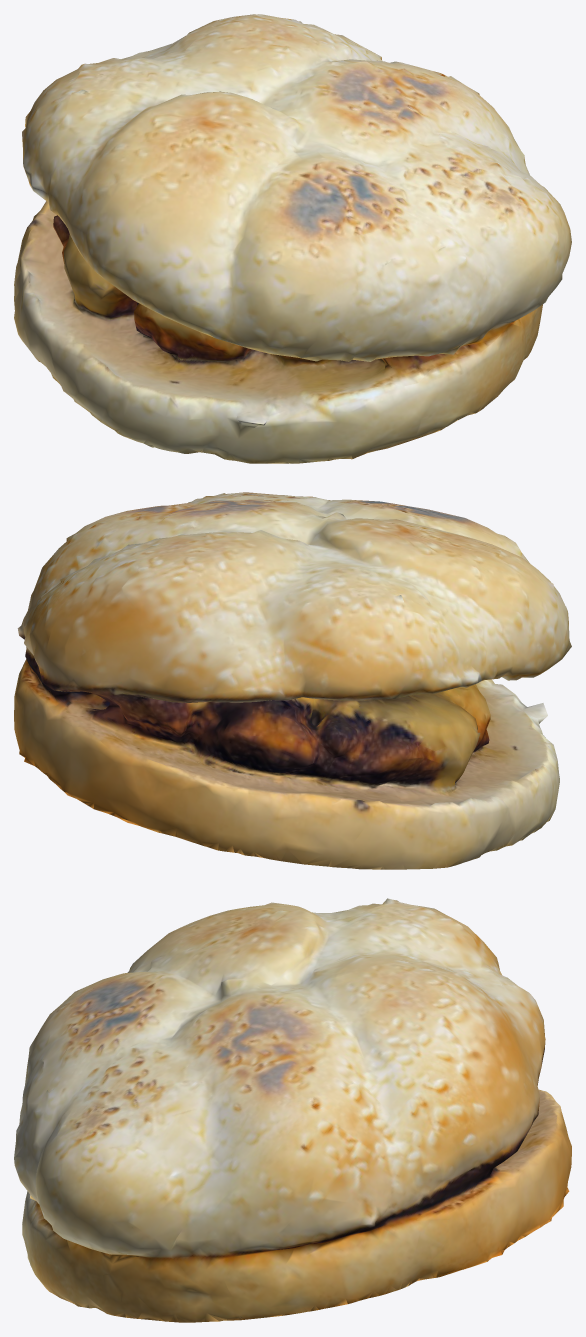
3 renders of one model, top to bottom at view 1: azimuth 30°, elevation 25°; view 2: azimuth 150°, elevation 25°; view 3: azimuth 270°, elevation 25°, orthographic. The views are drawn at different scales.
Visible parts, largest first — view 1: 3DModel_LowPoly; view 2: 3DModel_LowPoly; view 3: 3DModel_LowPoly.
Boxes of the visible parts, <box> form: 3DModel_LowPoly: <box>14,14,571,463</box>; 3DModel_LowPoly: <box>14,492,571,869</box>; 3DModel_LowPoly: <box>14,898,571,1322</box>.
Size of the model in its own units: 0.2542 by 0.1527 by 0.2596.
1 material, 1 textured.
